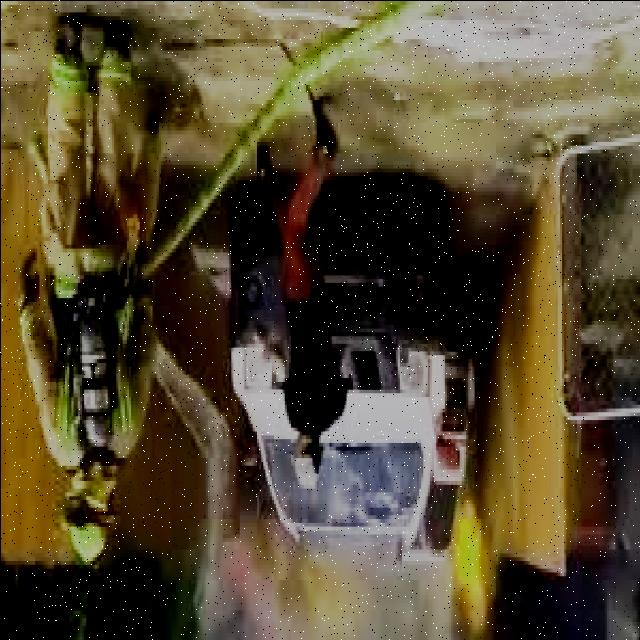api: (441, 496, 505, 626)
